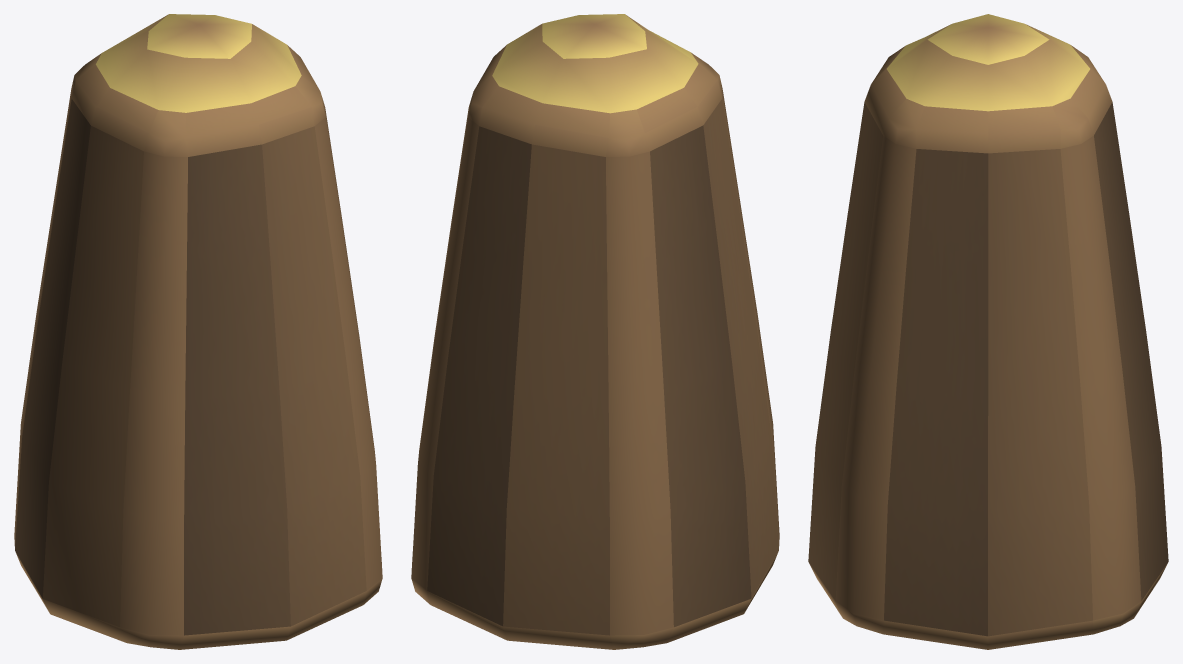
The model's file is banana_stamm_top_LOD_group.fbx.
3 renders of one model, left to right at view 1: azimuth 30°, elevation 25°; view 2: azimuth 150°, elevation 25°; view 3: azimuth 270°, elevation 25°, orthographic.
Parts seen in each view (by area): view 1: banana_stamm_top_LOD0; view 2: banana_stamm_top_LOD0; view 3: banana_stamm_top_LOD0.
Part boxes in pixels (x1,y1,x2,y2): banana_stamm_top_LOD0: (14,14,382,649); banana_stamm_top_LOD0: (411,14,779,649); banana_stamm_top_LOD0: (808,14,1168,649).
Size of what is drawn, in the model's own units: 67.73 by 117 by 68.12.
1 material, 1 textured.
